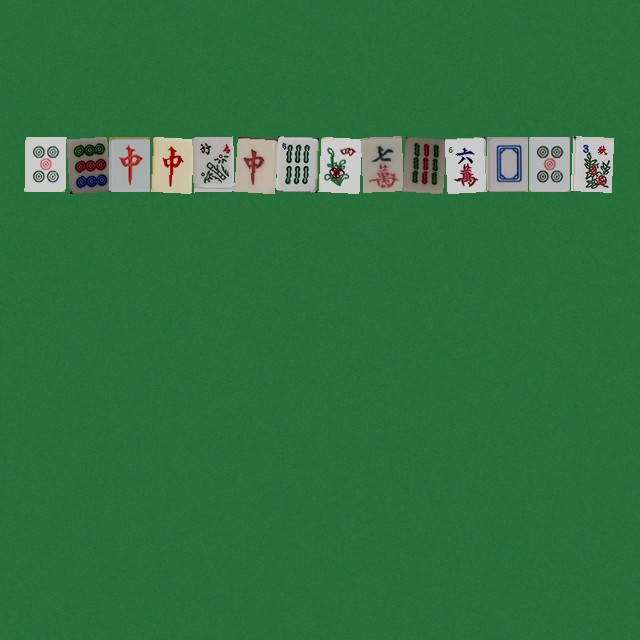tile: (24, 136, 65, 191), (66, 136, 107, 191), (108, 136, 149, 191), (150, 136, 191, 191), (192, 136, 233, 191), (234, 136, 275, 191), (276, 136, 317, 191), (318, 136, 359, 191), (360, 136, 401, 191), (402, 136, 443, 191), (444, 136, 485, 191), (486, 136, 527, 191), (528, 136, 569, 191), (570, 136, 611, 191)
